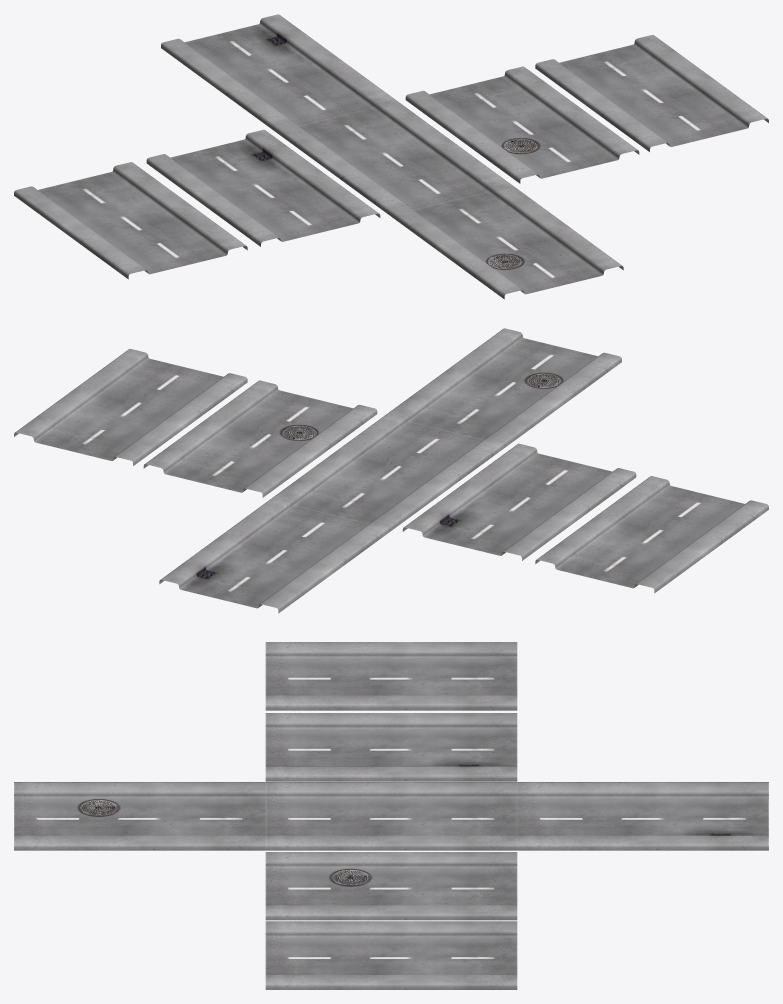
Rendered from roads_ii_100_free.glb.
3 renders of one model, top to bottom at view 1: azimuth 30°, elevation 25°; view 2: azimuth 150°, elevation 25°; view 3: azimuth 270°, elevation 25°, orthographic. The views are drawn at different scales.
Visible parts, largest first — view 1: Cube.002, Cube.004, Cube.001, Cube.006, Cube.005, Cube.003, Cube; view 2: Cube.002, Cube.003, Cube.001, Cube.006, Cube.005, Cube.004, Cube; view 3: Cube, Cube.001, Cube.005, Cube.006, Cube.002, Cube.003, Cube.004.
Boxes of the visible parts, box(x1,y1,x2,y2) form: Cube.002: box(405, 66, 639, 183); Cube.004: box(390, 182, 623, 299); Cube.001: box(146, 129, 380, 246); Cube.006: box(535, 35, 768, 151); Cube.005: box(14, 162, 247, 279); Cube.003: box(161, 14, 393, 131); Cube: box(275, 98, 507, 215); Cube.002: box(143, 380, 377, 497); Cube.003: box(159, 496, 392, 613); Cube.001: box(402, 443, 636, 560); Cube.006: box(14, 349, 247, 465); Cube.005: box(535, 476, 768, 593); Cube.004: box(389, 328, 621, 445); Cube: box(275, 412, 507, 529); Cube: box(265, 782, 517, 850); Cube.001: box(265, 713, 517, 781); Cube.005: box(265, 642, 517, 710); Cube.006: box(265, 921, 517, 989); Cube.002: box(265, 852, 517, 920); Cube.003: box(517, 782, 768, 850); Cube.004: box(14, 782, 265, 850).
Bounding box in the file's own units: 17.94 × 0.1386 × 16.67.
Materials: 3 (3 with a texture image).
